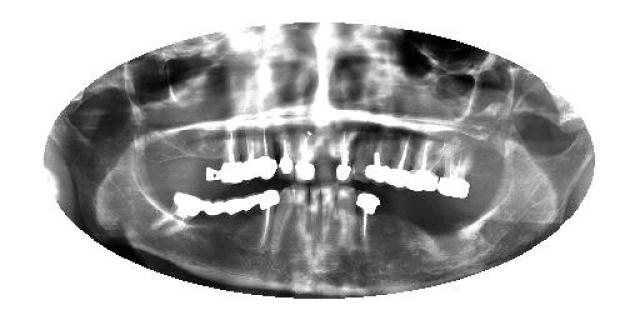Fillings: (149, 188, 201, 238), (439, 146, 470, 198), (201, 198, 224, 224), (226, 195, 242, 226), (242, 194, 256, 228)
Implant: (408, 136, 440, 192), (355, 190, 380, 248), (258, 189, 280, 250), (388, 136, 412, 188), (219, 131, 241, 184), (294, 135, 315, 181), (365, 145, 389, 183), (335, 128, 351, 184), (258, 131, 276, 180), (242, 130, 258, 184), (278, 138, 294, 178)
Restorations: (151, 192, 200, 236)
